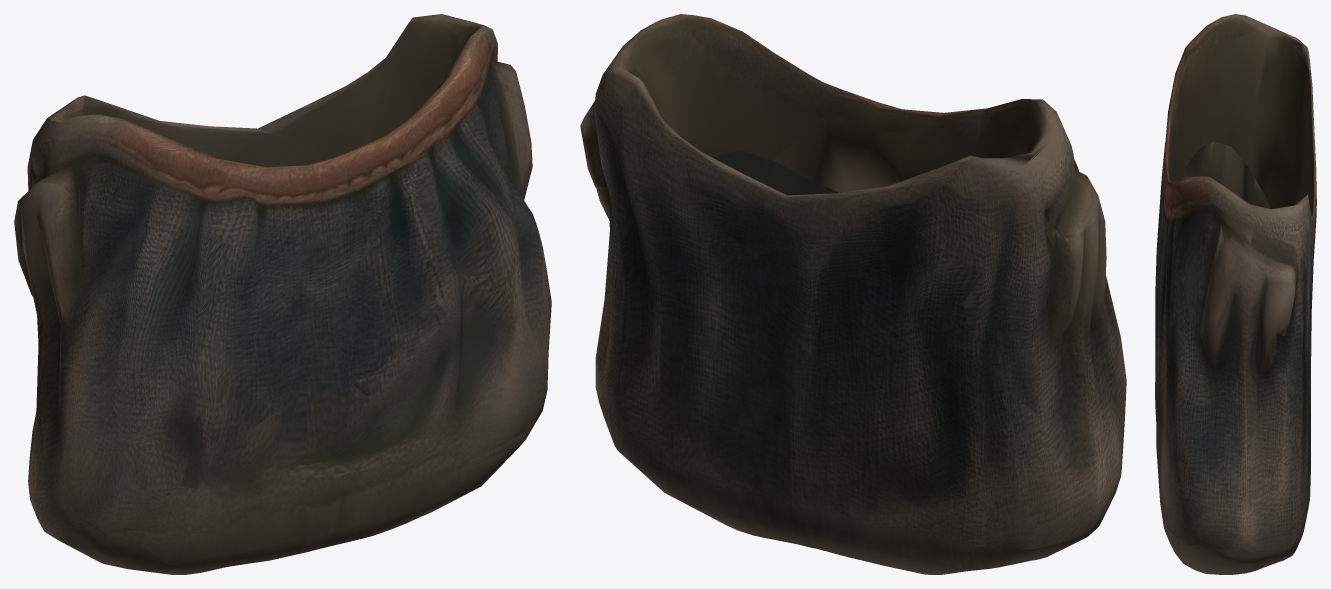
The model's file is SoftPouch.fbx.
3 renders of one model, left to right at view 1: azimuth 30°, elevation 25°; view 2: azimuth 150°, elevation 25°; view 3: azimuth 270°, elevation 25°, orthographic. The views are drawn at different scales.
Parts seen in each view (by area): view 1: SoftPouch_LOD0; view 2: SoftPouch_LOD0; view 3: SoftPouch_LOD0.
Part boxes in pixels (bbox=[...]): SoftPouch_LOD0: bbox=[14, 14, 551, 574]; SoftPouch_LOD0: bbox=[580, 14, 1126, 574]; SoftPouch_LOD0: bbox=[1155, 14, 1316, 574].
Size of what is drawn, in the model's own units: 0.0981 by 0.0881 by 0.0309.
